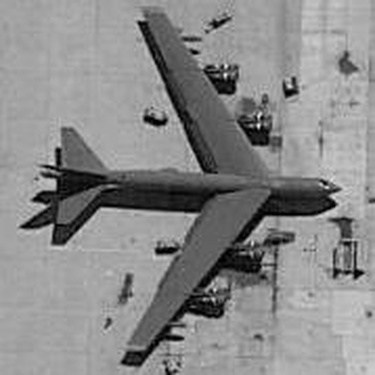airplane: (5, 1, 353, 365)
